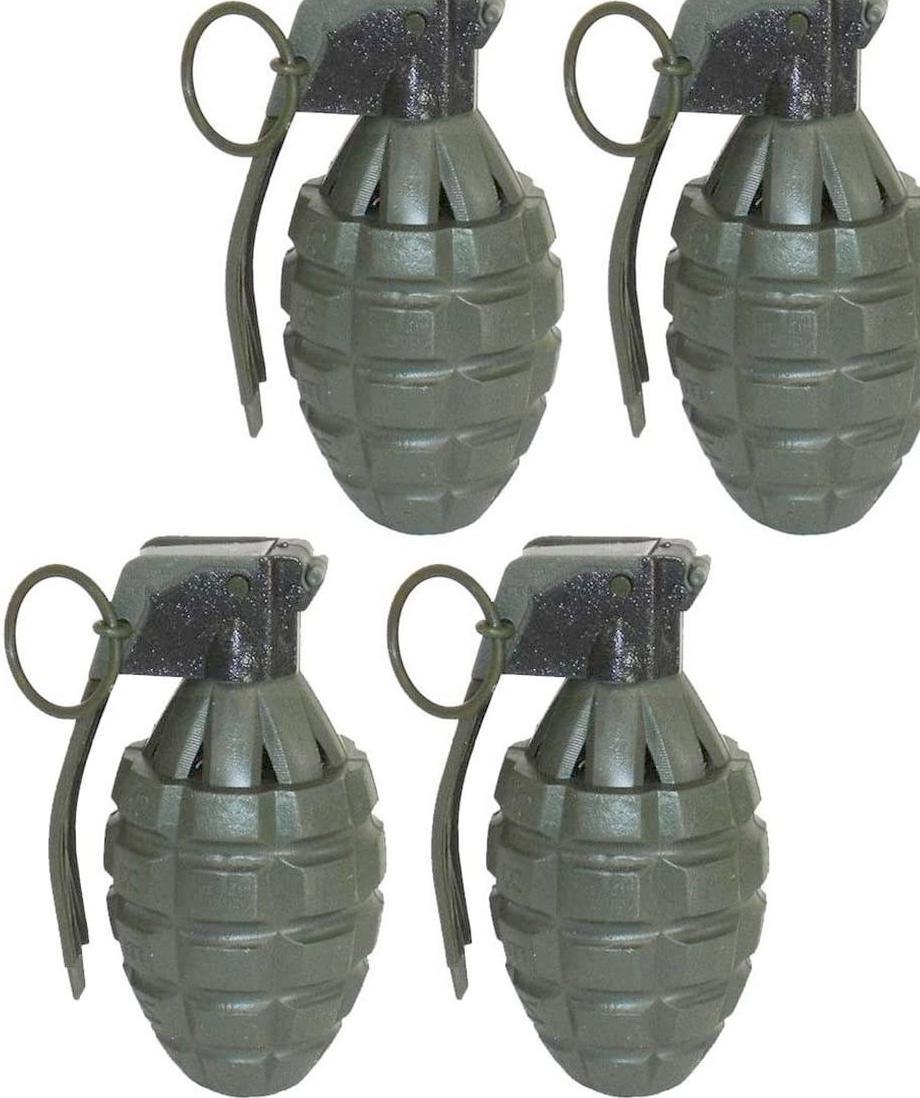Grenade: (1, 535, 388, 1097), (386, 535, 772, 1097), (177, 0, 564, 537), (561, 0, 919, 538)
